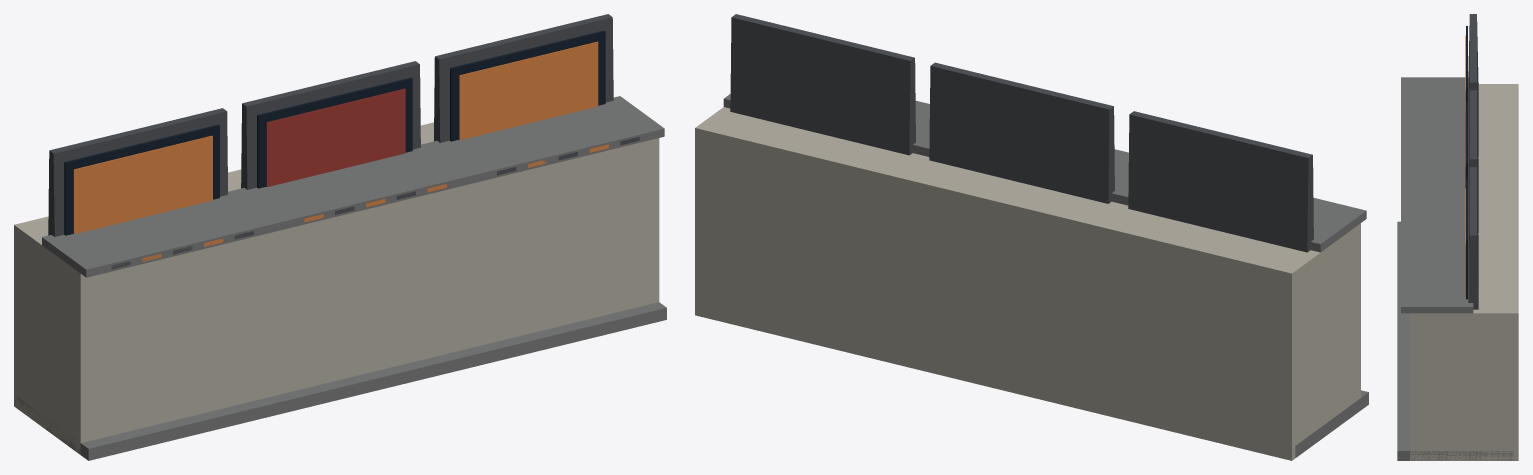
File: rebel_console_bank.glb
3 renders of one model, left to right at view 1: azimuth 30°, elevation 25°; view 2: azimuth 150°, elevation 25°; view 3: azimuth 270°, elevation 25°, orthographic. The views are drawn at different scales.
Visible parts, largest first — view 1: rebel_console_bank; view 2: rebel_console_bank; view 3: rebel_console_bank.
Boxes of the visible parts, x1,y1,x2,y2 form: rebel_console_bank: [14, 14, 666, 460]; rebel_console_bank: [695, 14, 1368, 460]; rebel_console_bank: [1397, 14, 1518, 460].
Bounding box in the file's own units: 3 × 1.35 × 0.67.
